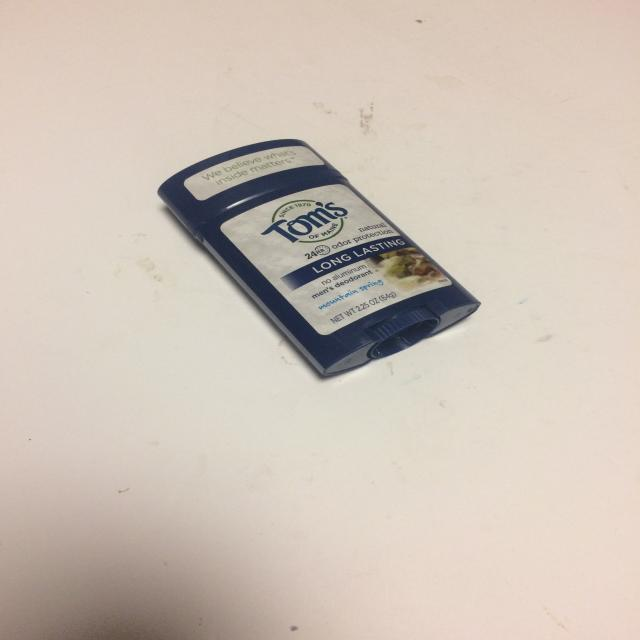trash: (156, 137, 482, 378)
